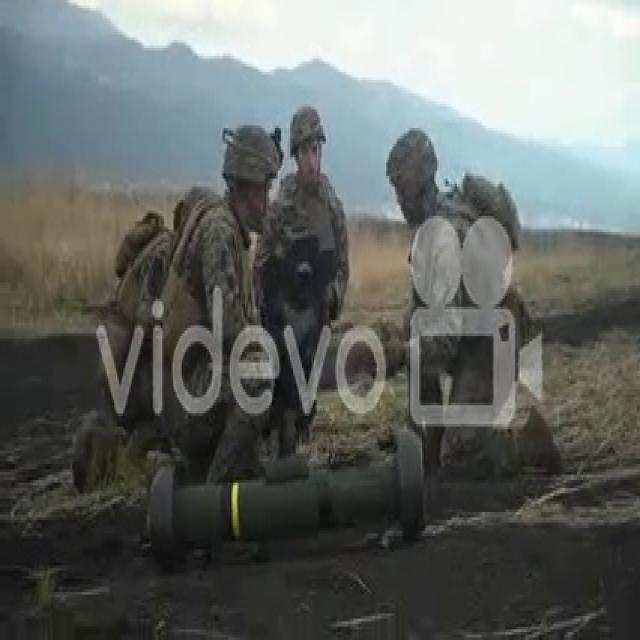bazooka: (142, 416, 437, 585)
